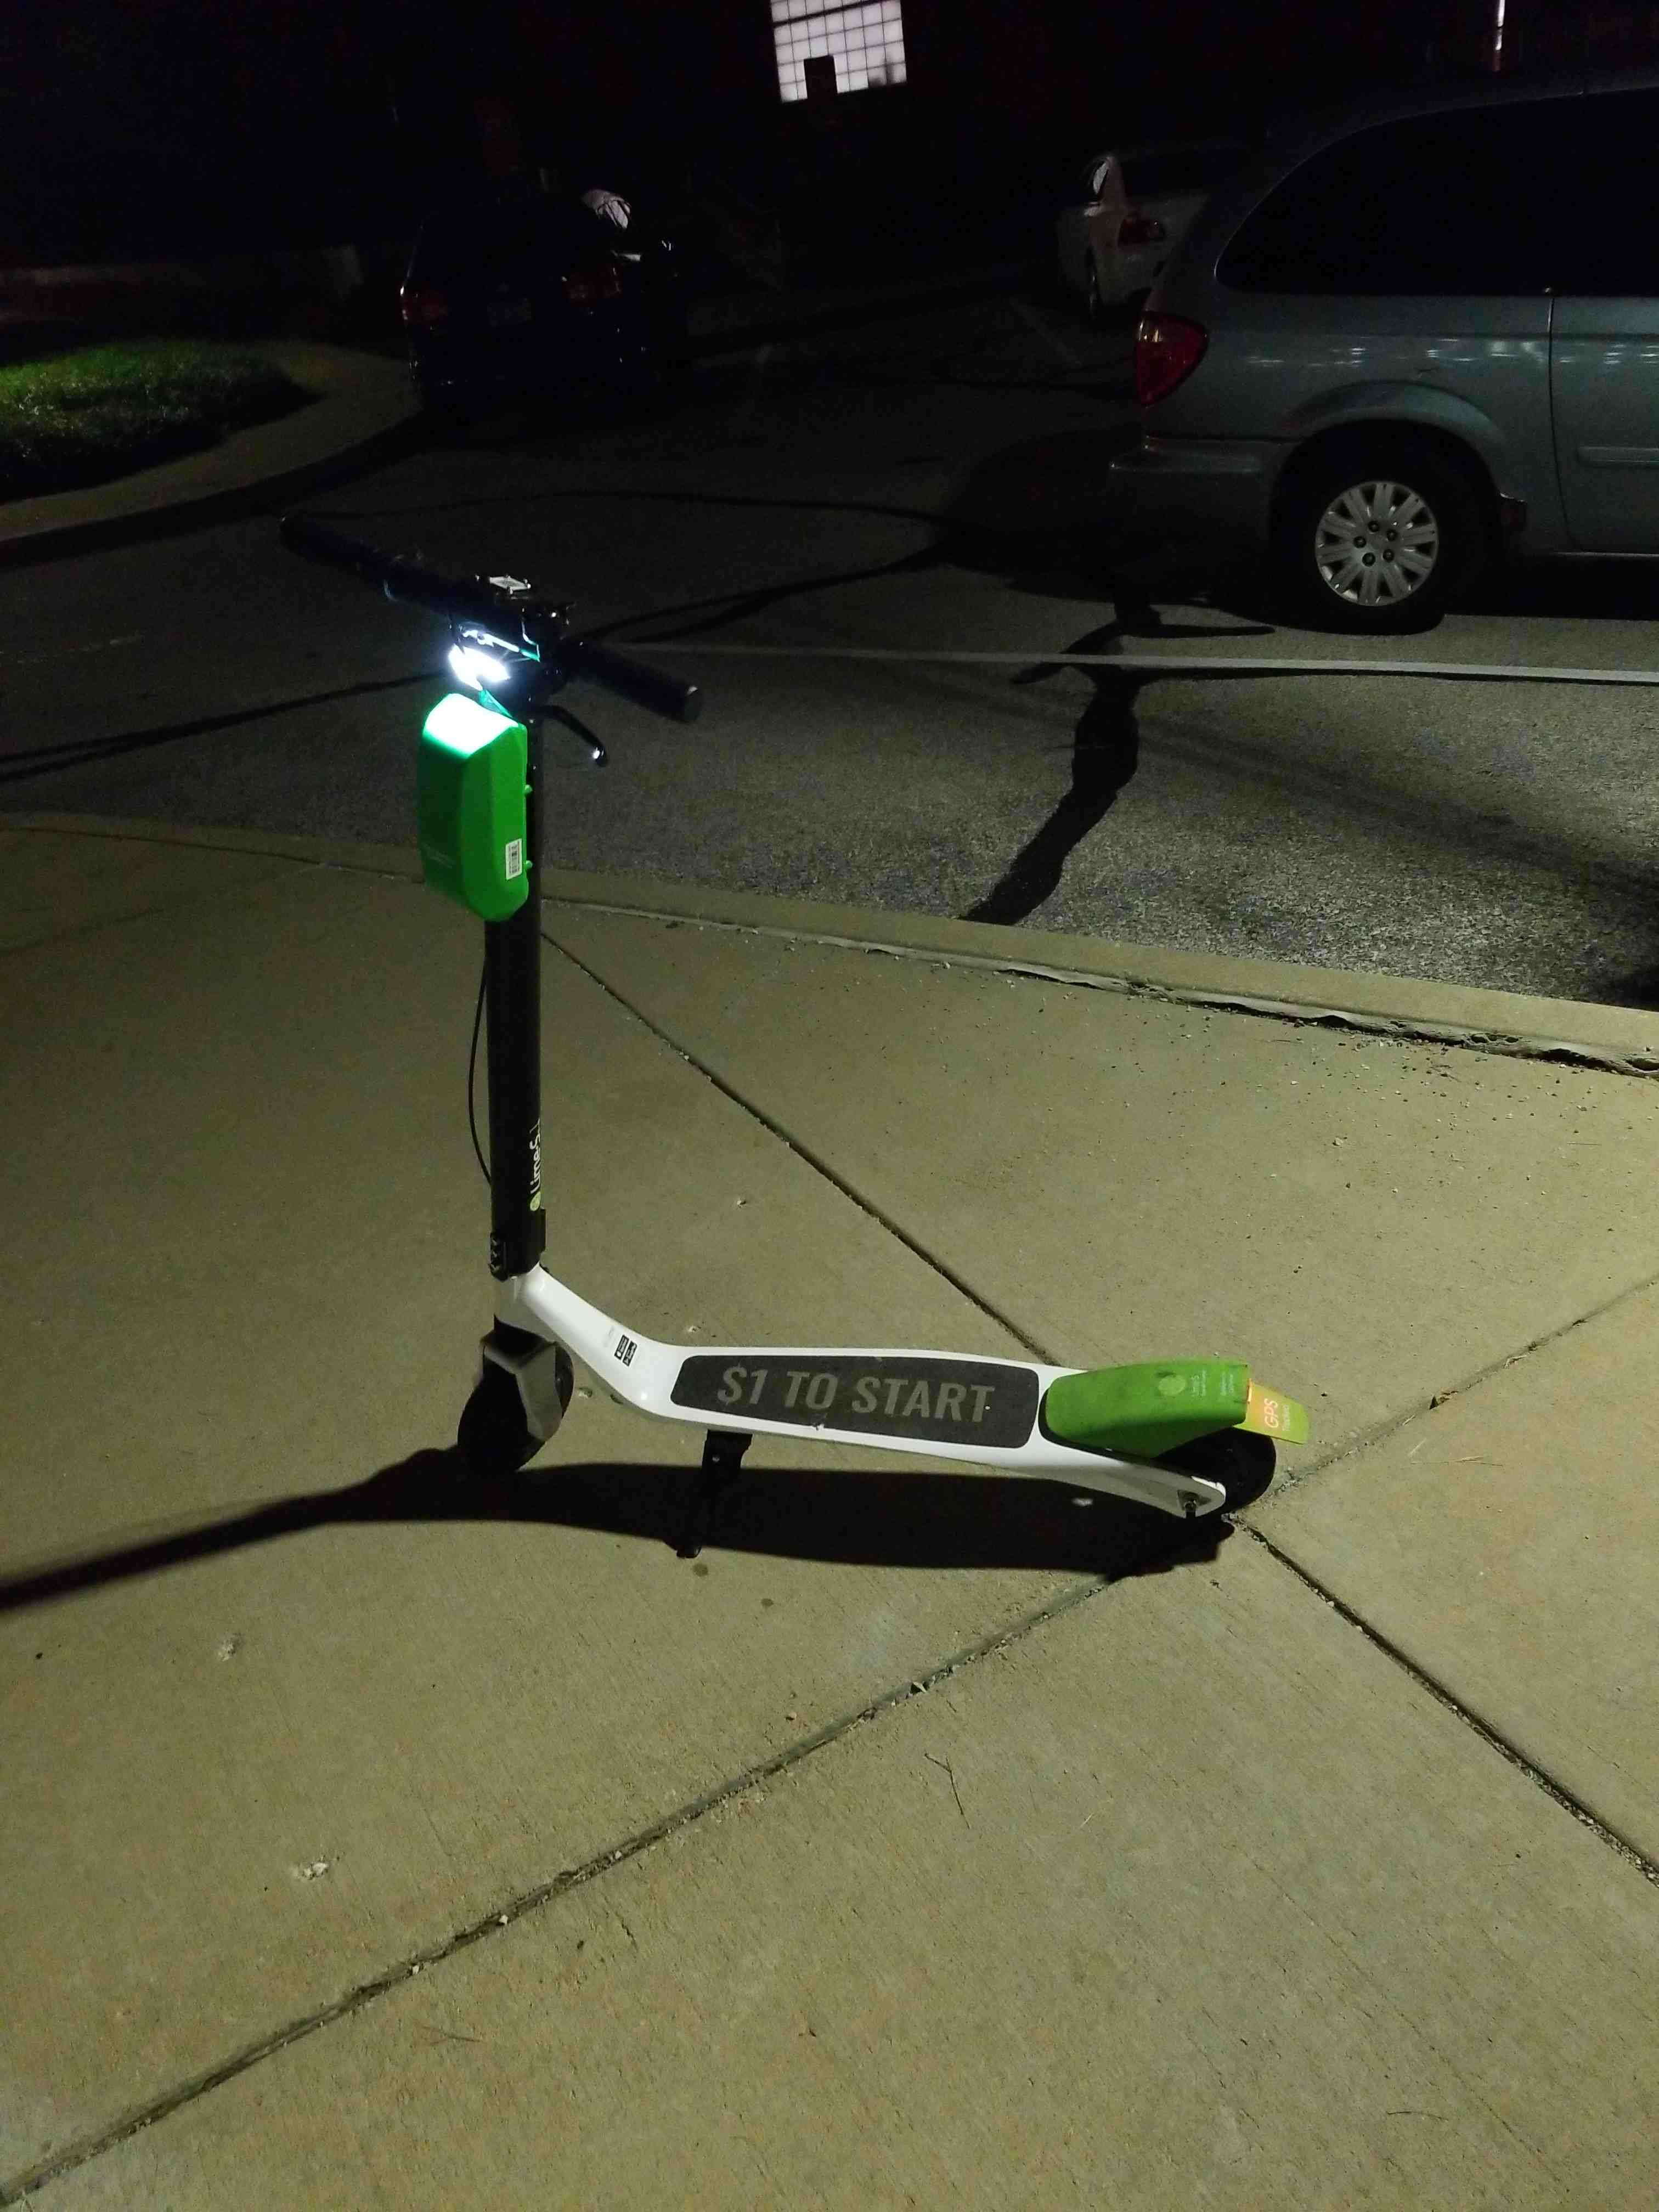scooter: (349, 491, 1312, 1576)
